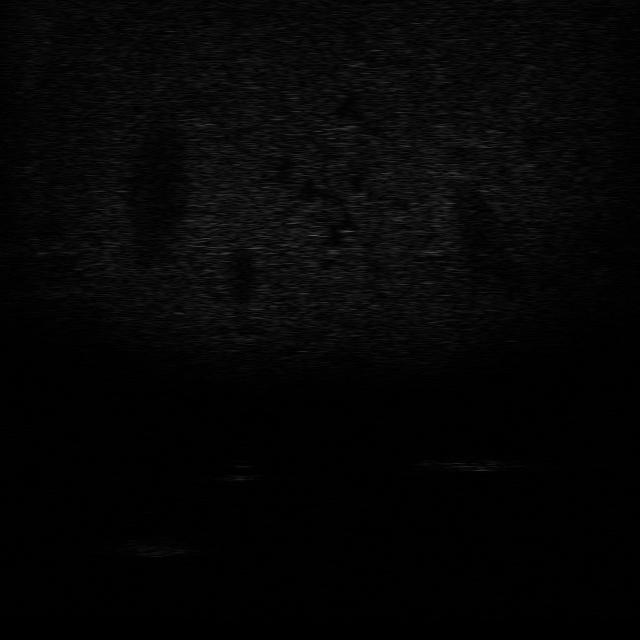ball: (212, 462, 262, 482)
circle cage: (109, 531, 196, 560)
human body: (414, 449, 531, 478)
